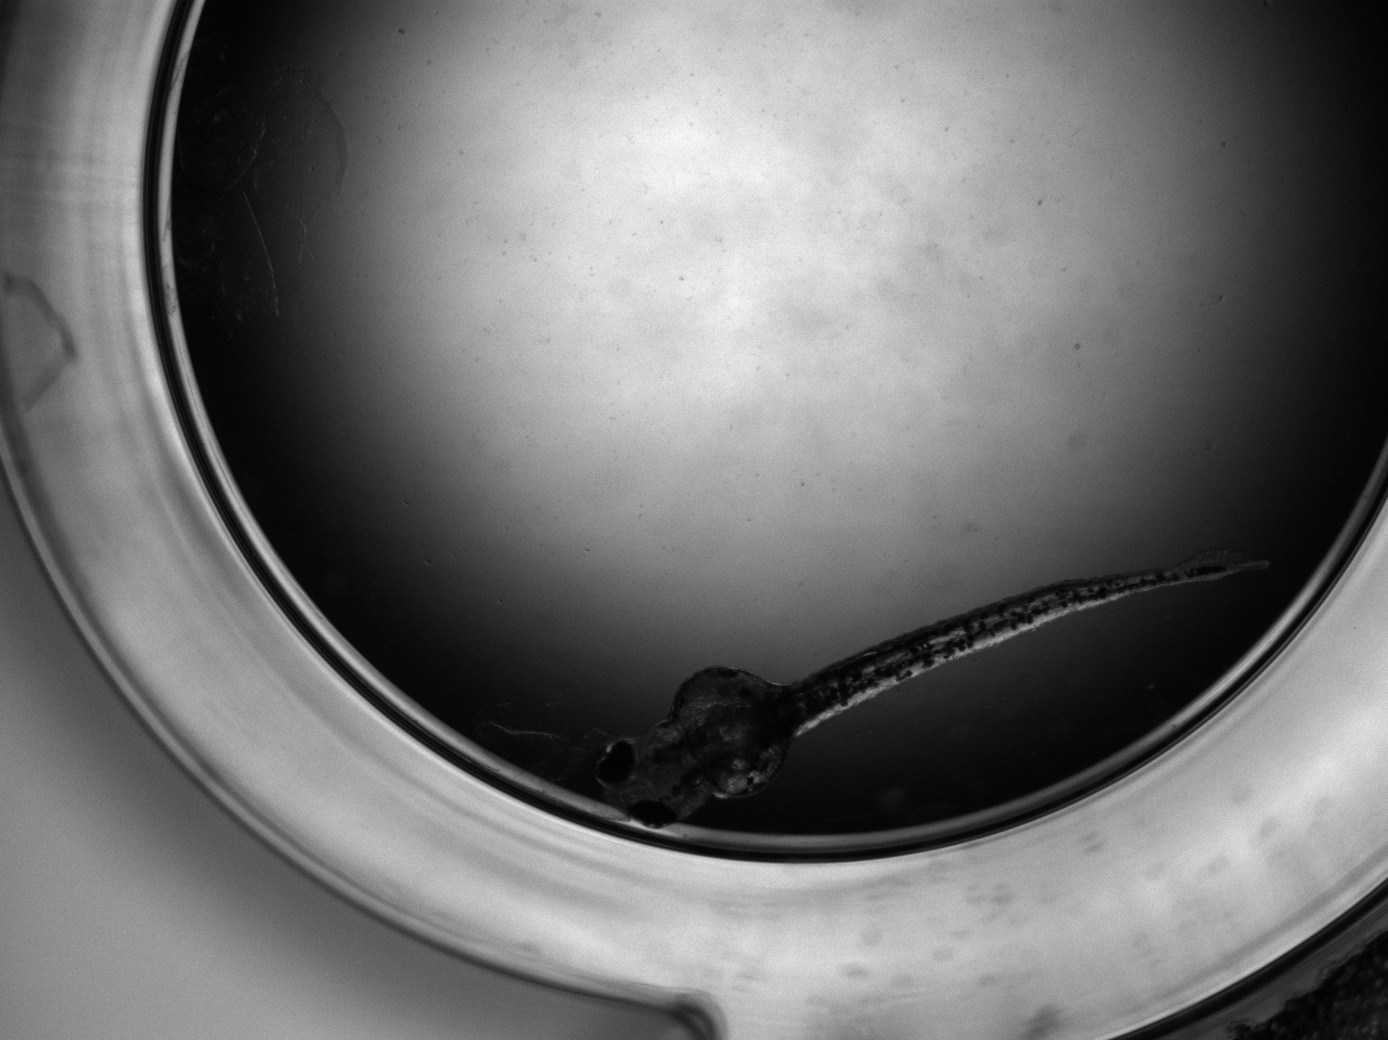embryo: (595, 557, 1273, 830)
eye: (595, 738, 634, 788), (629, 800, 677, 830)
yolksac: (671, 665, 795, 801)
